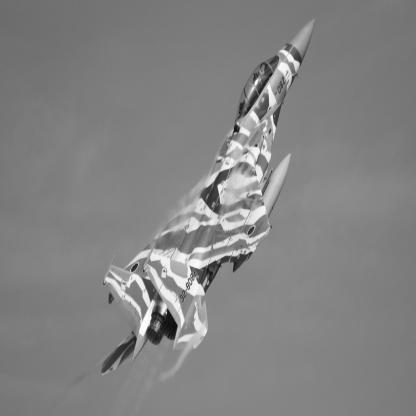F15: (101, 18, 317, 379)
